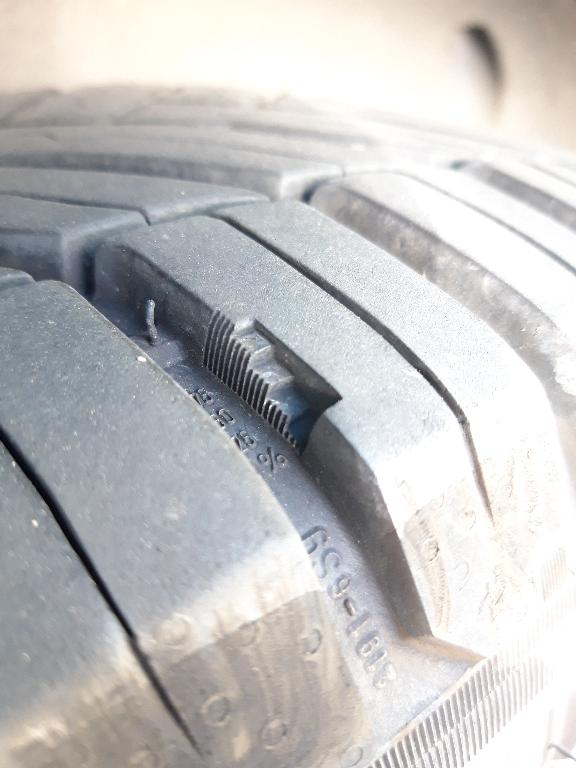temoin:90: (197, 297, 350, 464)
